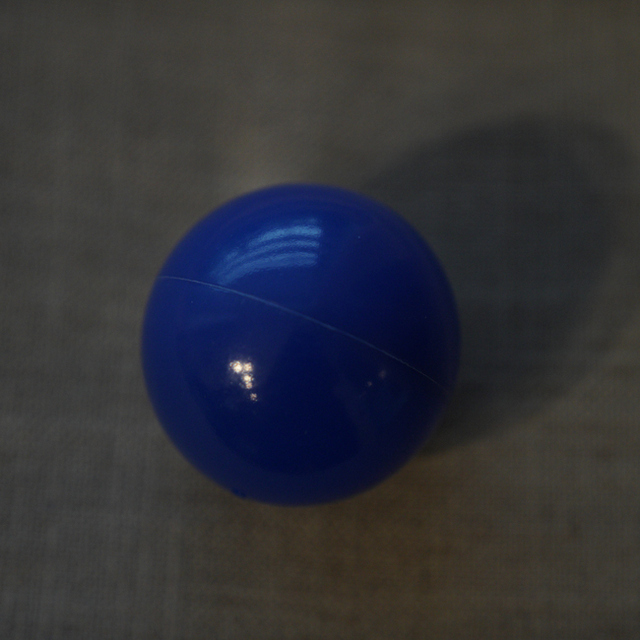Ball: (140, 184, 460, 510)
